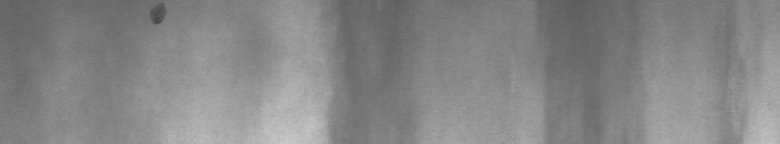fi: (147, 4, 168, 32)
